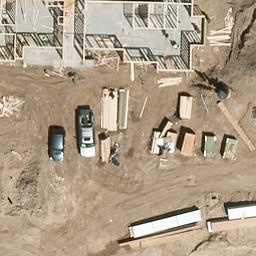car: (48, 130, 65, 161)
pickup: (79, 107, 96, 159)
